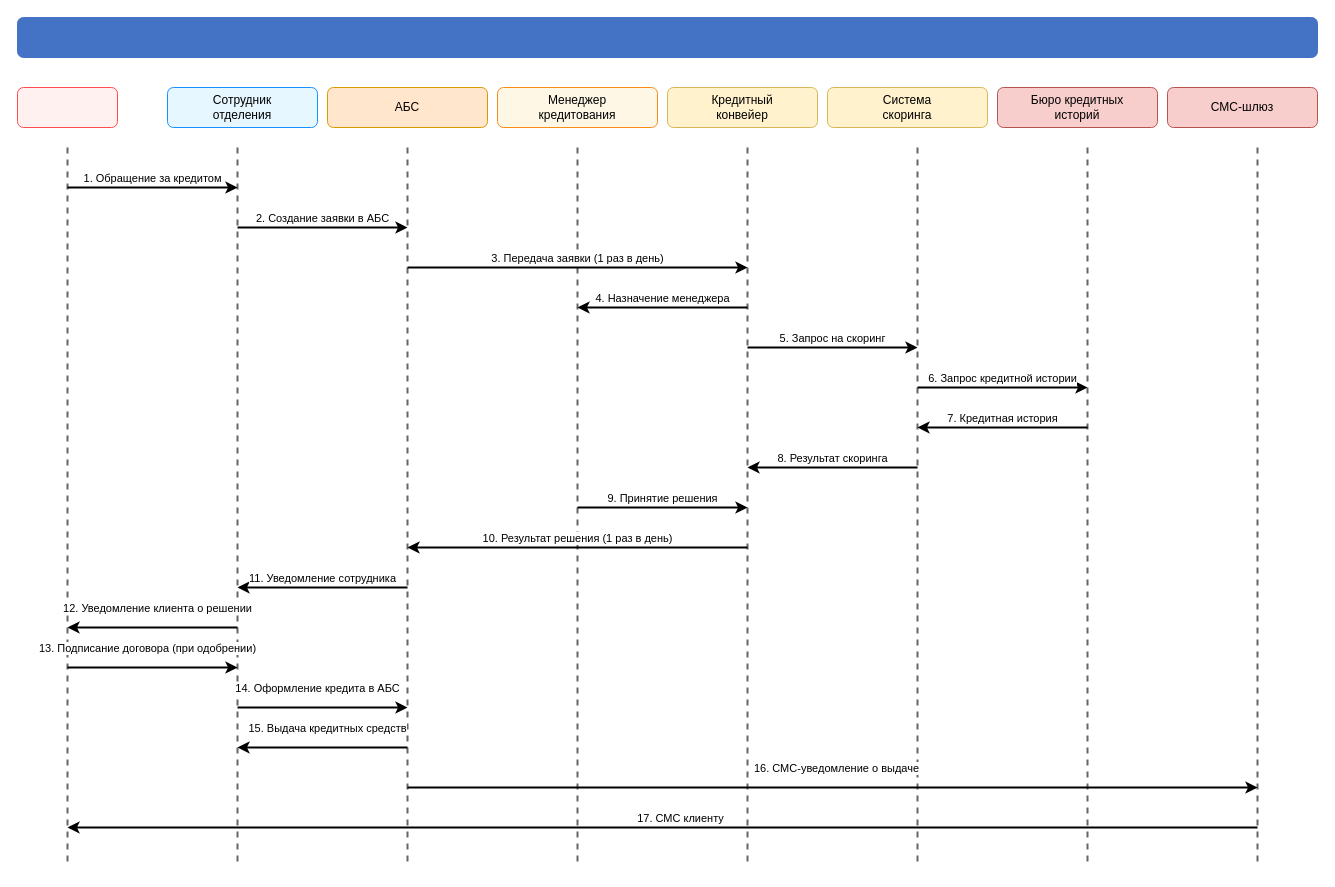
Some shapes in this 1335 by 887 pixel diagram are drawn without their labels. The centre of each missing label's shape, as x and y in pixels:
Клиент: point 67,107
Процесс выдачи кредита в банке "Стандарт": point 667,37
